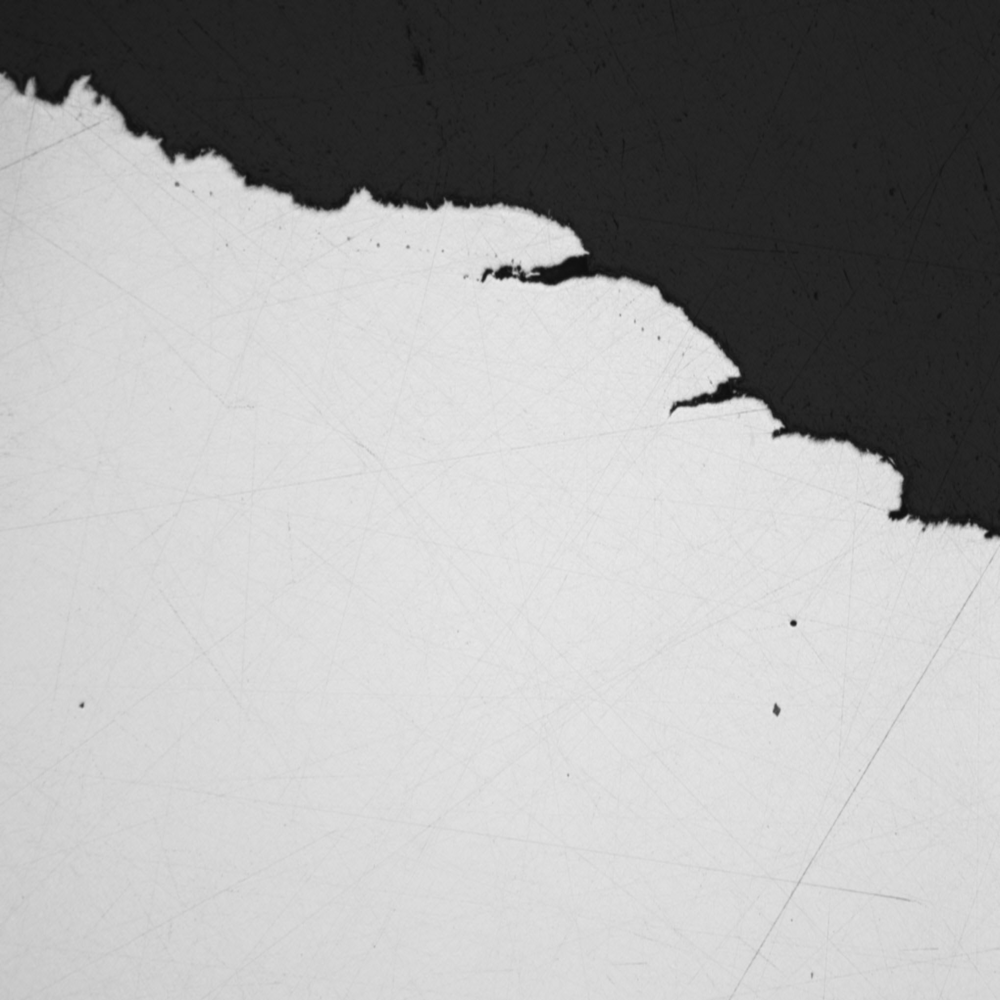crack: (444, 224, 656, 309), (858, 455, 996, 555), (647, 355, 775, 438), (762, 403, 814, 446)
